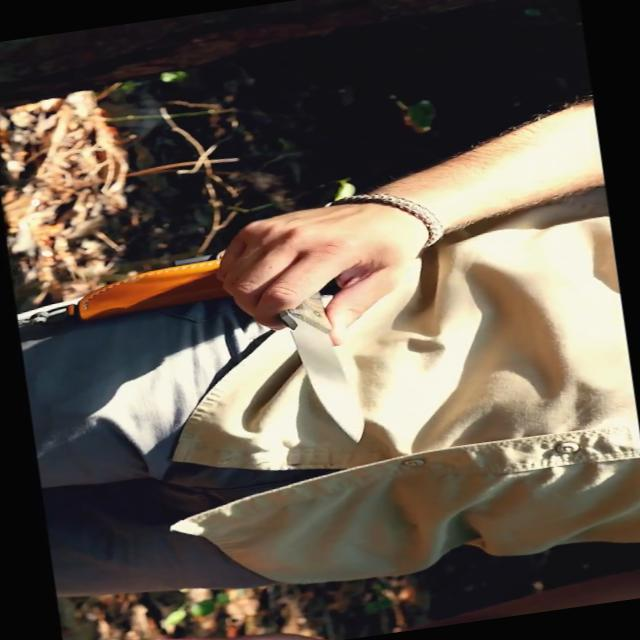knife: (210, 222, 394, 464)
